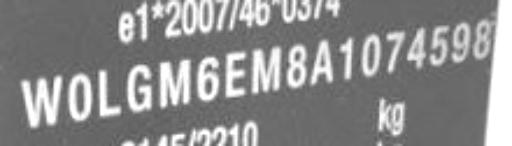letter: (18, 73, 62, 128), (158, 57, 192, 107), (249, 45, 283, 93), (307, 38, 337, 84), (126, 62, 152, 112), (96, 67, 122, 117), (220, 50, 246, 98), (196, 53, 220, 103), (68, 71, 92, 121), (448, 19, 472, 66), (284, 43, 308, 89), (360, 32, 384, 77), (404, 25, 428, 68), (384, 30, 406, 73), (428, 23, 448, 66), (472, 18, 492, 59), (337, 35, 355, 80)
